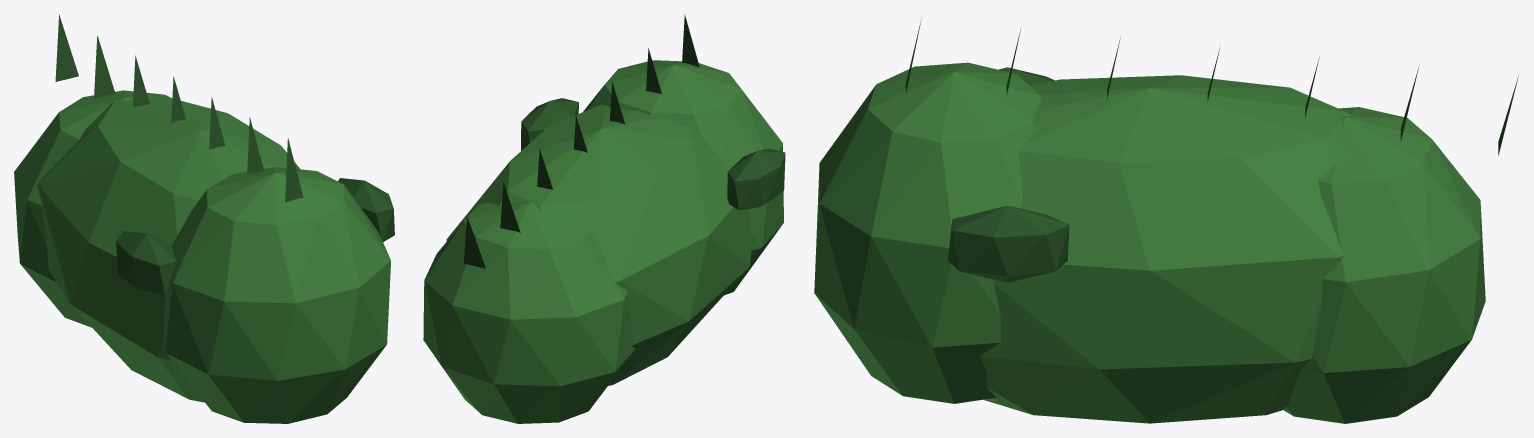
The model's file is dragon_0_body.glb.
3 views of the same model, side by side, from view 1: azimuth 30°, elevation 25°; view 2: azimuth 150°, elevation 25°; view 3: azimuth 270°, elevation 25° (orthographic). The views are drawn at different scales.
Visible parts, largest first — view 1: dragon_0_body; view 2: dragon_0_body; view 3: dragon_0_body.
Boxes of the visible parts, left/top/right/bottom form: dragon_0_body: left=14, top=14, right=394, bottom=423; dragon_0_body: left=423, top=14, right=785, bottom=423; dragon_0_body: left=814, top=17, right=1518, bottom=423.
Bounding box in the file's own units: 1.09 × 1.24 × 1.98.
